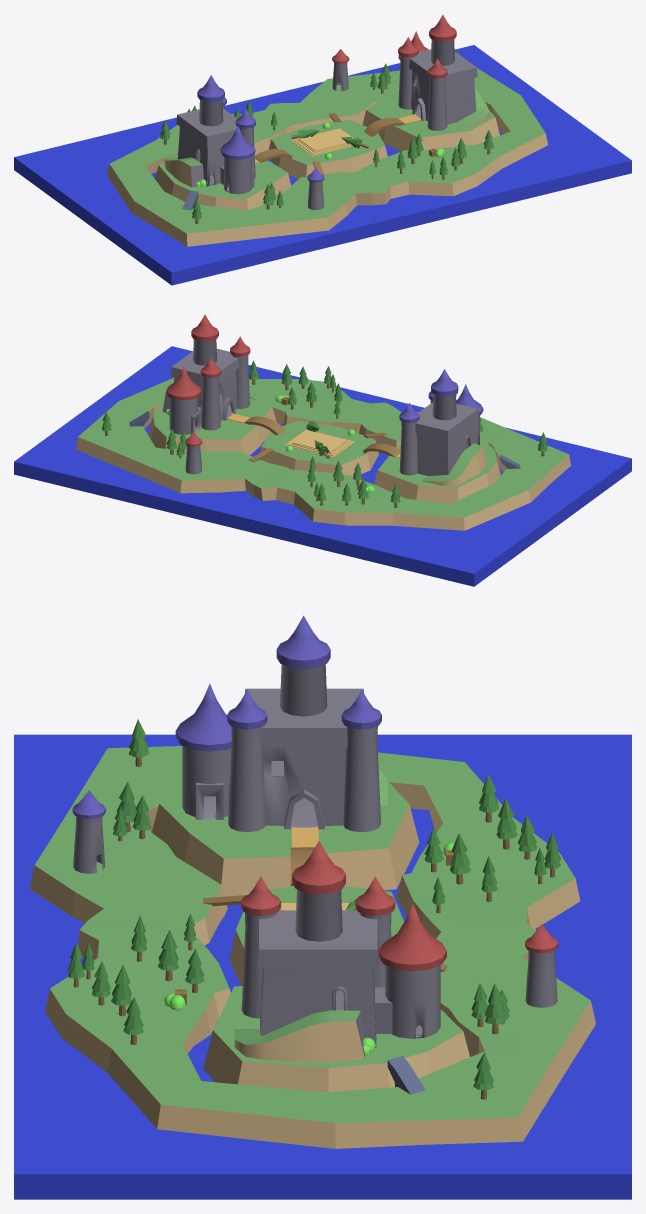
File: KleptoKnightsMap.fbx
The picture shows the model from 3 angles, top to bottom: view 1: azimuth 30°, elevation 25°; view 2: azimuth 150°, elevation 25°; view 3: azimuth 270°, elevation 25°; orthographic projection. The views are drawn at different scales.
Visible parts, largest first — view 1: Sea, LandEnclave.001, 1.Castle.001, 1.Castle, LandSquare, LandIsland, LandIsland.001, Square, Cylinder.009, Cylinder.007, 1.Bridge; view 2: Sea, LandEnclave.001, 1.Castle.001, 1.Castle, LandSquare, LandIsland, LandIsland.001, Square, Cylinder.007; view 3: Sea, LandEnclave.001, 1.Castle, 1.Castle.001, LandIsland.001, LandIsland, Cylinder.007, Cylinder.009, LandSquare, Cube.007.
Part boxes in pixels (left/top/right/bottom): Sea: left=14, top=45, right=631, bottom=285; LandEnclave.001: left=107, top=68, right=547, bottom=246; 1.Castle.001: left=164, top=75, right=255, bottom=194; 1.Castle: left=398, top=15, right=489, bottom=130; LandSquare: left=269, top=119, right=387, bottom=178; LandIsland: left=362, top=88, right=499, bottom=151; LandIsland.001: left=155, top=154, right=290, bottom=210; Square: left=291, top=128, right=353, bottom=156; Cylinder.009: left=307, top=168, right=324, bottom=210; Cylinder.007: left=332, top=49, right=349, bottom=91; 1.Bridge: left=364, top=117, right=405, bottom=136; Sea: left=14, top=346, right=631, bottom=586; LandEnclave.001: left=76, top=378, right=570, bottom=530; 1.Castle.001: left=399, top=369, right=486, bottom=485; 1.Castle: left=162, top=314, right=250, bottom=434; LandSquare: left=260, top=420, right=378, bottom=475; LandIsland: left=148, top=398, right=276, bottom=455; LandIsland.001: left=374, top=438, right=500, bottom=504; Square: left=284, top=429, right=354, bottom=457; Cylinder.007: left=185, top=432, right=202, bottom=474; Sea: left=14, top=734, right=631, bottom=1199; LandEnclave.001: left=29, top=746, right=595, bottom=1148; 1.Castle: left=234, top=841, right=446, bottom=1062; 1.Castle.001: left=175, top=615, right=387, bottom=832; LandIsland.001: left=151, top=782, right=419, bottom=896; LandIsland: left=203, top=986, right=469, bottom=1092; Cylinder.007: left=525, top=924, right=558, bottom=1007; Cylinder.009: left=72, top=790, right=105, bottom=873; LandSquare: left=229, top=886, right=404, bottom=985; Cube.007: left=387, top=1056, right=425, bottom=1094.
Bounding box in the file's own units: 7466 × 2022 × 4435.
